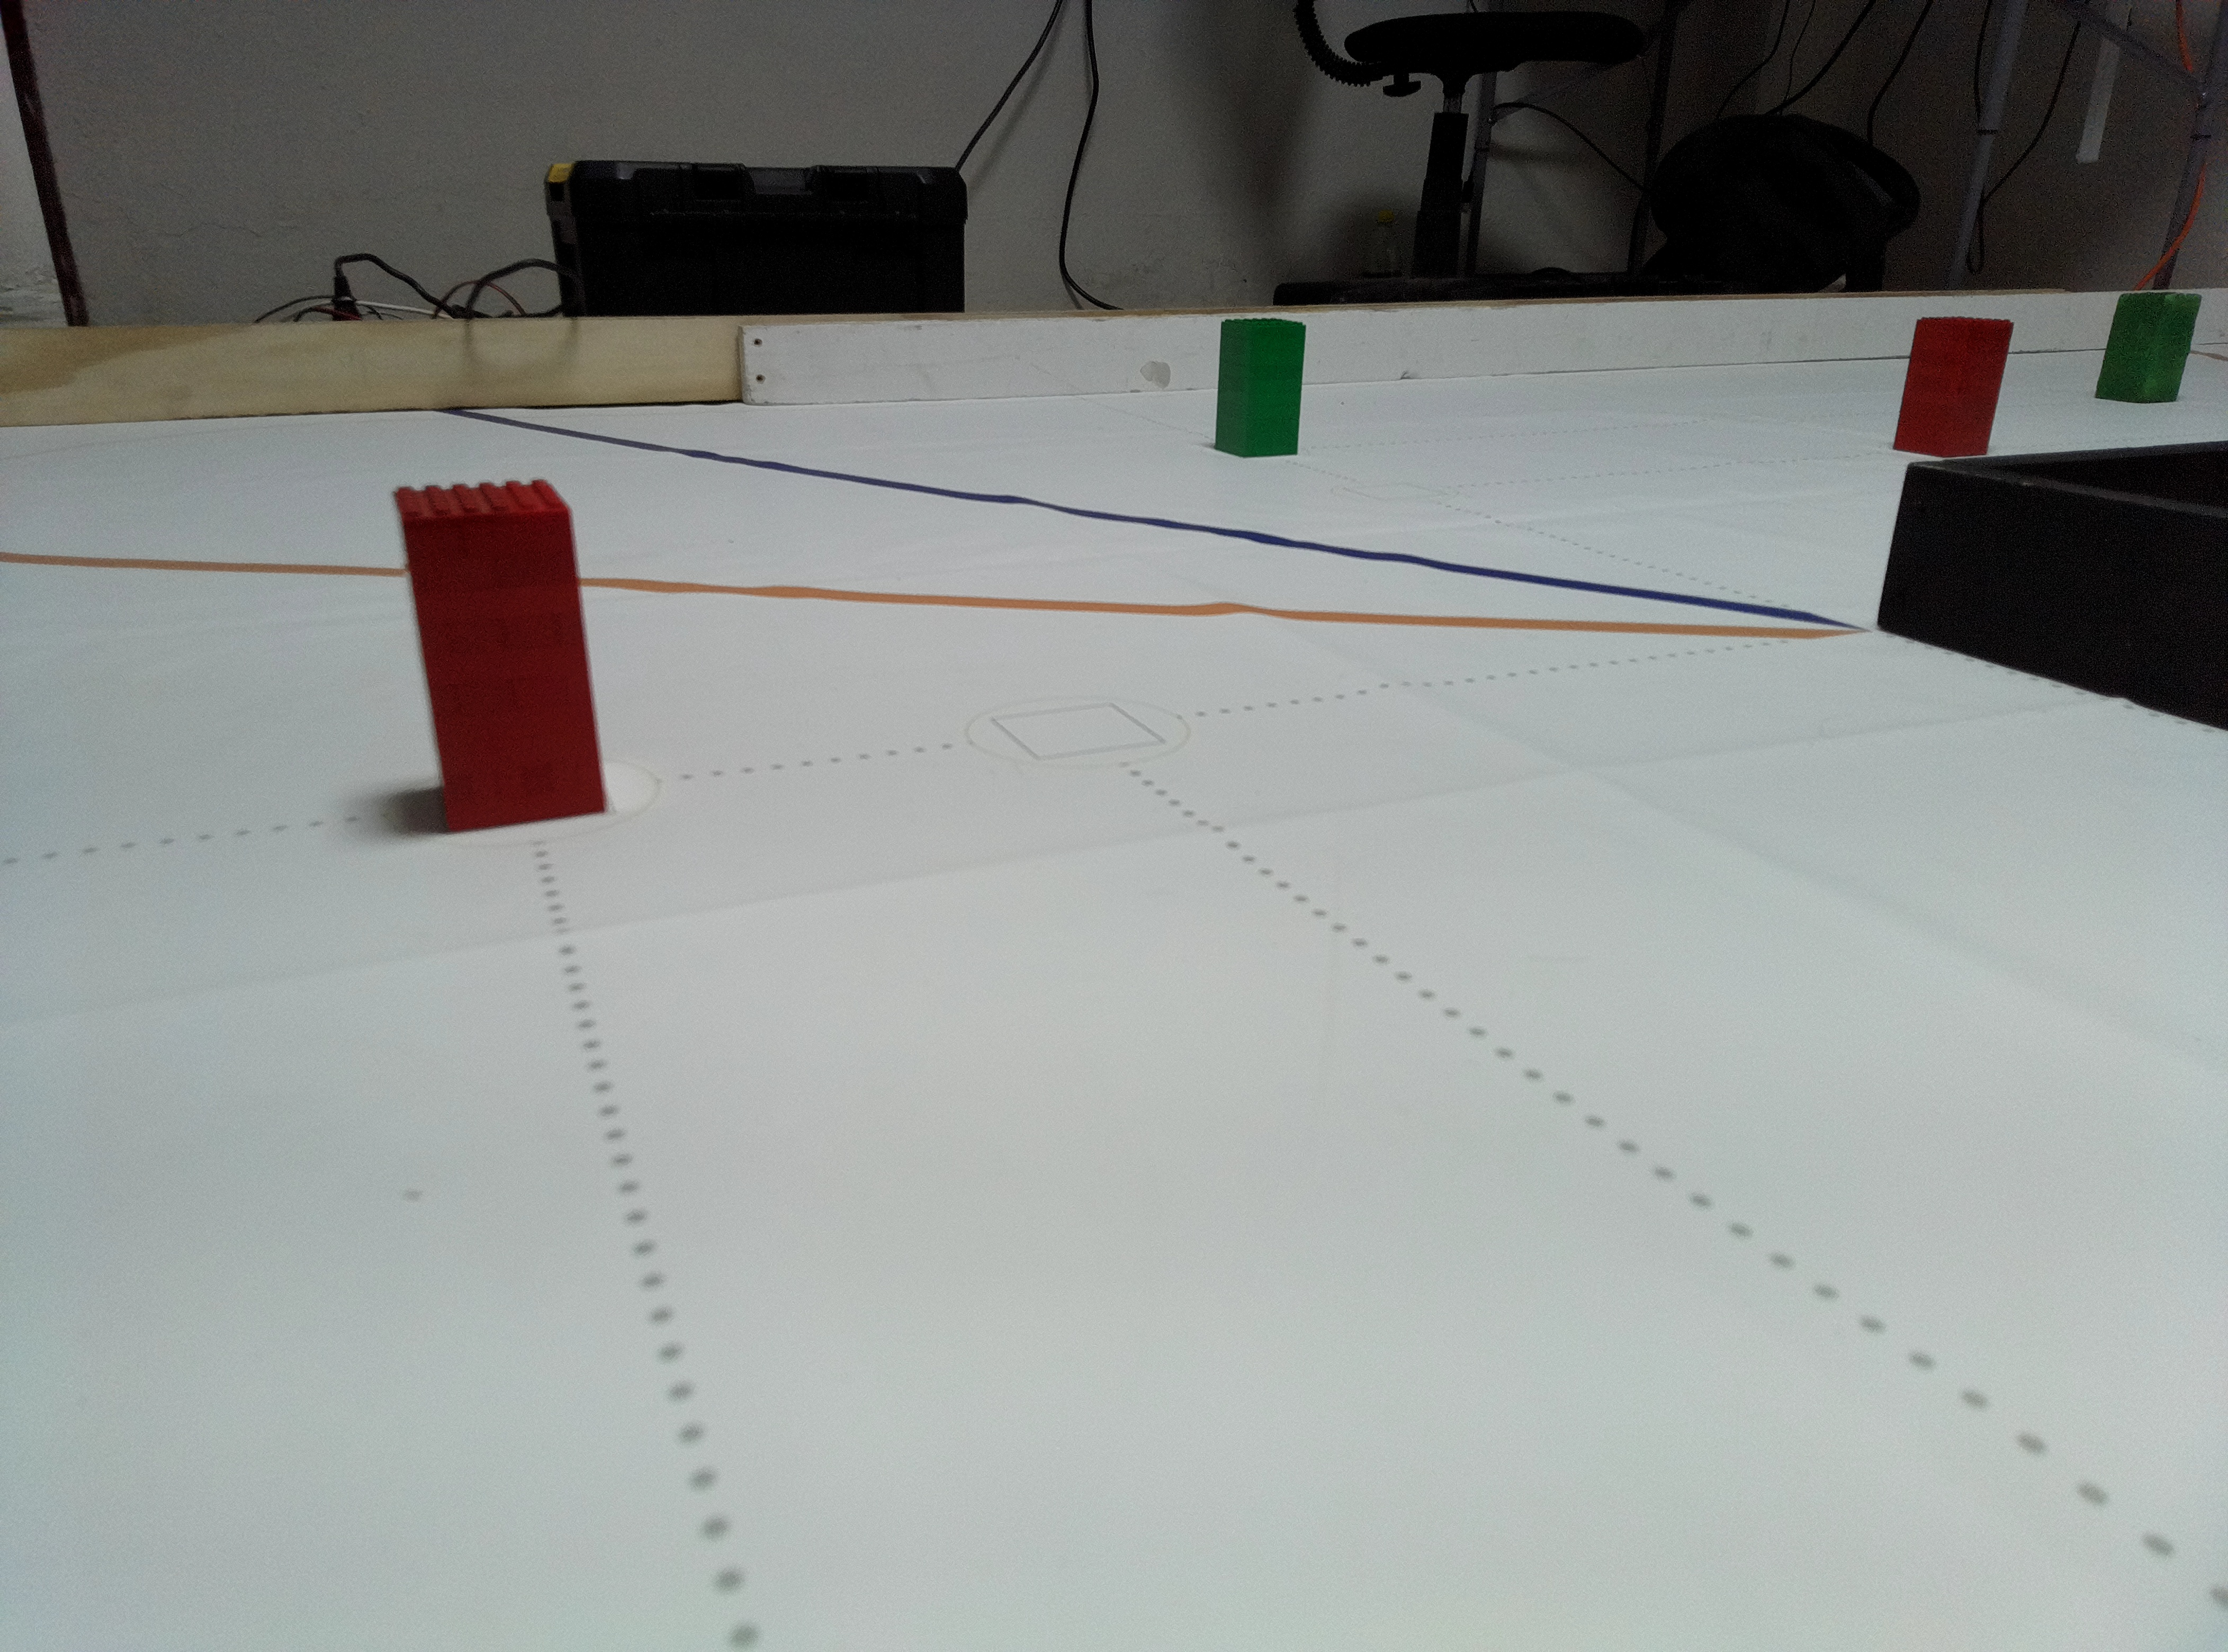greenbox: (1213, 318, 1308, 460), (2093, 292, 2205, 406)
redbox: (387, 475, 616, 836), (1891, 318, 2018, 458)
